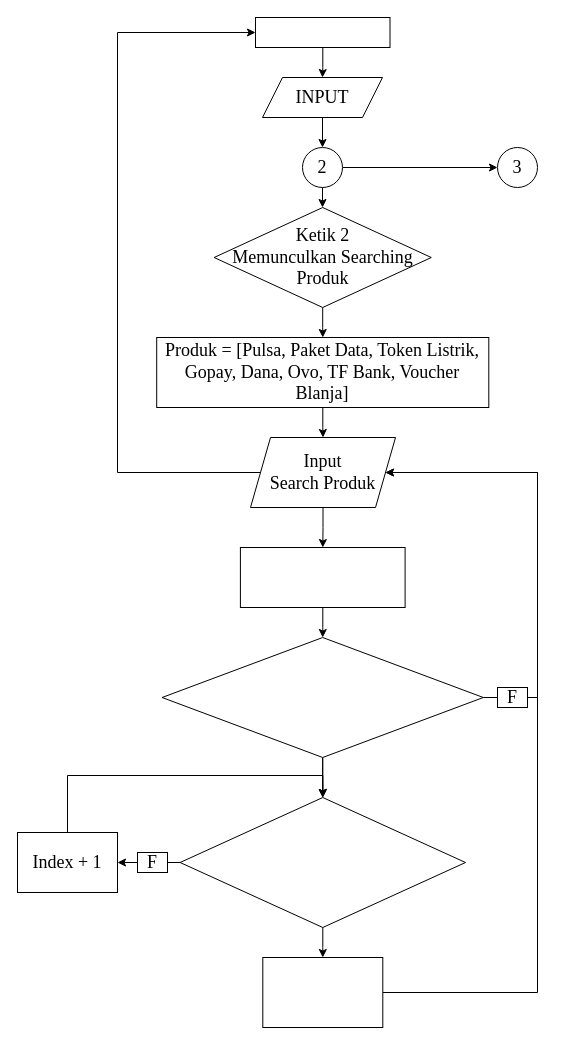
The diagram is 563 pixels wide and 1045 high, and some of its shapes have lost their labels. Here are the shapes that lost their labels. From the top down, the centre of each, then its label:
point (322, 32): MENU UTAMA
point (322, 577): Start Index dari 0 Kondisi awal False
point (322, 697): Selama index kurang dari panjang list produk dan kondisi tidak False
point (322, 862): Jika produk yang dicari sama dengan list produk index ke 0
point (322, 992): KONDISI MENJADI TRUE
